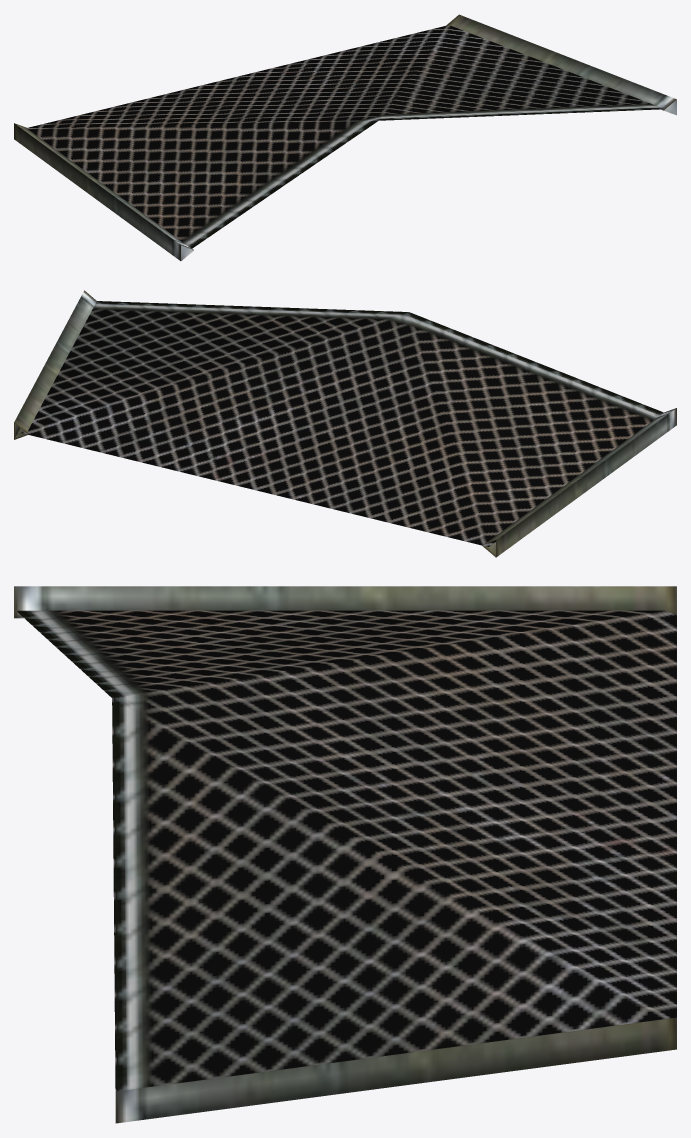
The model's file is fence2m.fbx.
3 renders of one model, top to bottom at view 1: azimuth 30°, elevation 25°; view 2: azimuth 150°, elevation 25°; view 3: azimuth 270°, elevation 25°, orthographic. The views are drawn at different scales.
Parts seen in each view (by area): view 1: mesh_0, mesh_1; view 2: mesh_0, mesh_1; view 3: mesh_0, mesh_1.
Boxes of the visible parts, x1,y1,x2,y2 form: mesh_0: (27, 25, 664, 248); mesh_1: (14, 14, 676, 260); mesh_0: (21, 301, 663, 546); mesh_1: (14, 290, 676, 557); mesh_0: (16, 610, 676, 1091); mesh_1: (14, 586, 676, 1123).
Size of the model in its own units: 234 by 29.34 by 130.
Materials: 1 (1 with a texture image).
